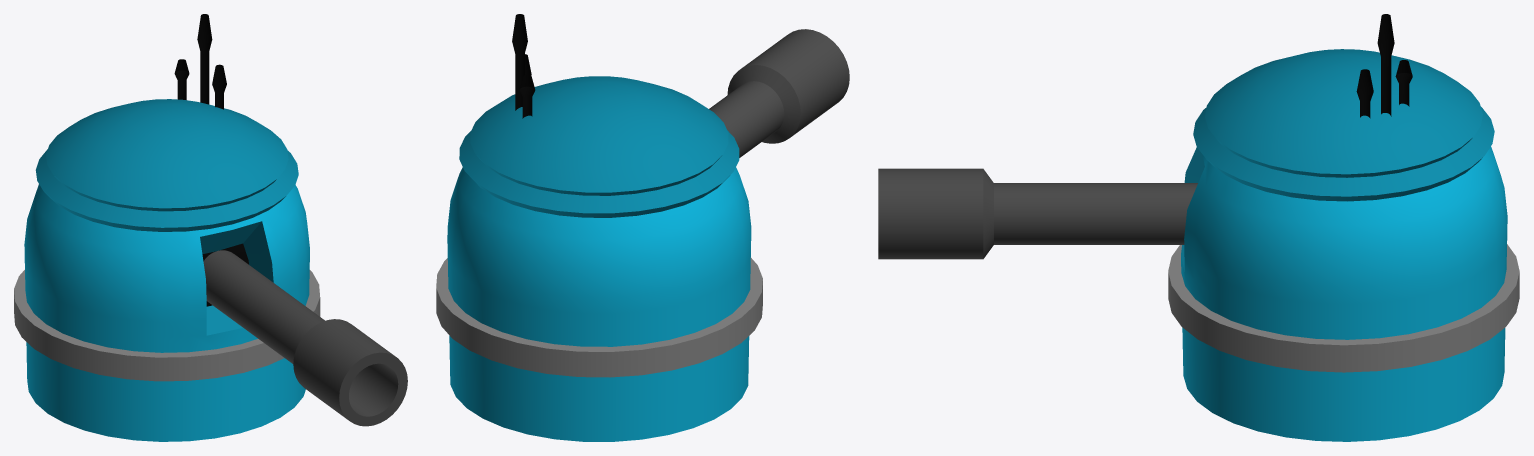
The model's file is newTankGun.fbx.
3 views of the same model, side by side, from view 1: azimuth 30°, elevation 25°; view 2: azimuth 150°, elevation 25°; view 3: azimuth 270°, elevation 25° (orthographic). The views are drawn at different scales.
Parts seen in each view (by area): view 1: Sphere.003; view 2: Sphere.003; view 3: Sphere.003.
Boxes of the visible parts, x1,y1,x2,y2 form: Sphere.003: (14,14,407,441); Sphere.003: (436,14,849,441); Sphere.003: (878,14,1519,441).
Size of the model in its own units: 635 by 777 by 1159.
